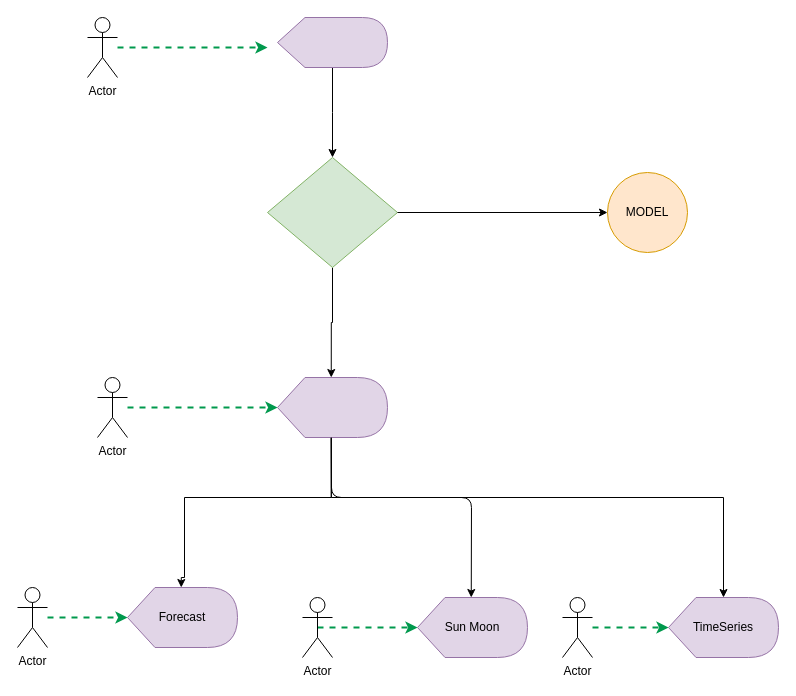
Image size: 796x696. Some labels were removed from this diagram. Here are the shapes that lost their labels. From the top down, the box of each, then its label:
(276, 16, 388, 68): WorldWeather
(266, 156, 398, 268): CONTROLLER
(276, 376, 388, 438): CurrentView
